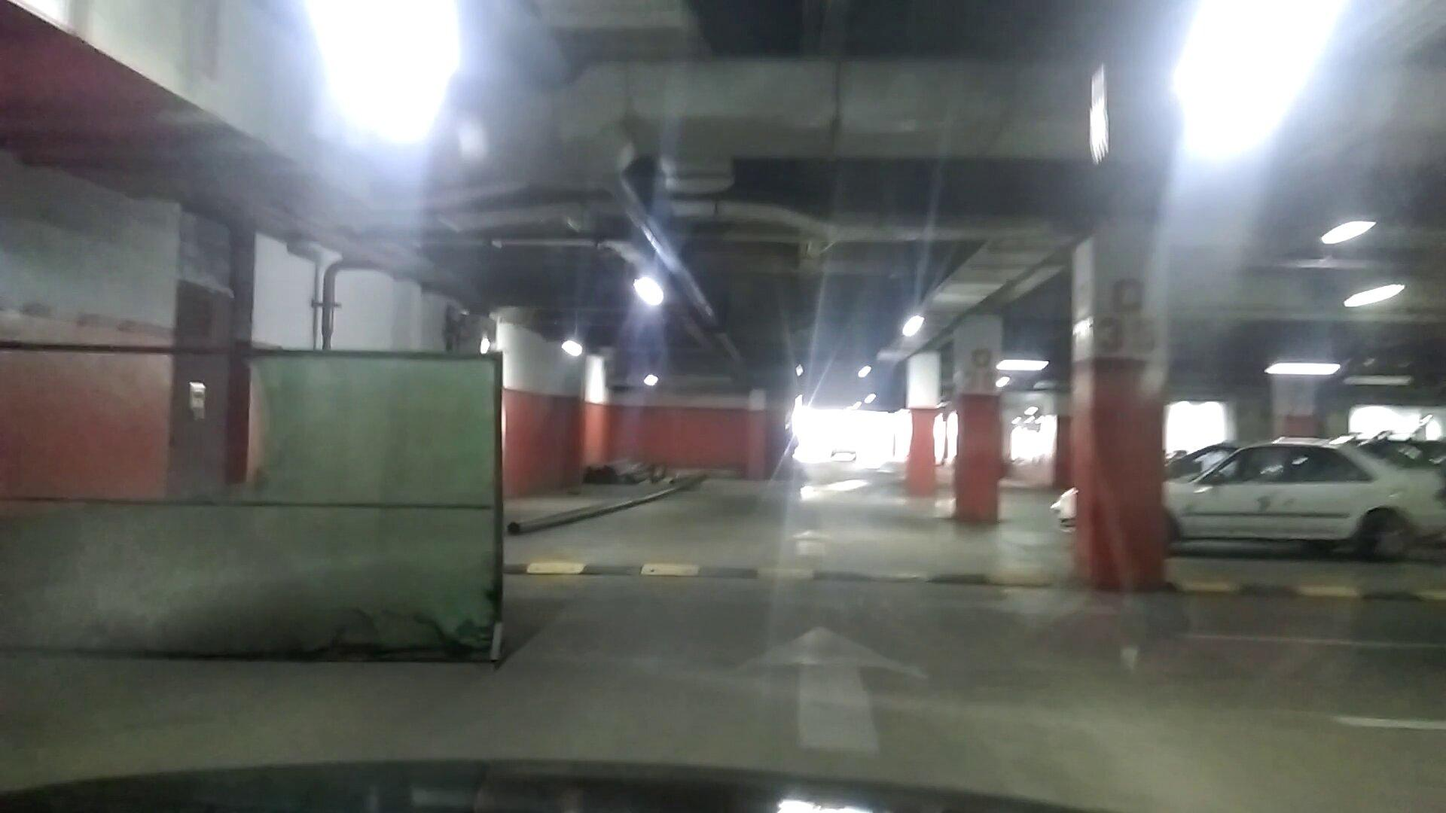Bump: (514, 553, 1052, 597)
